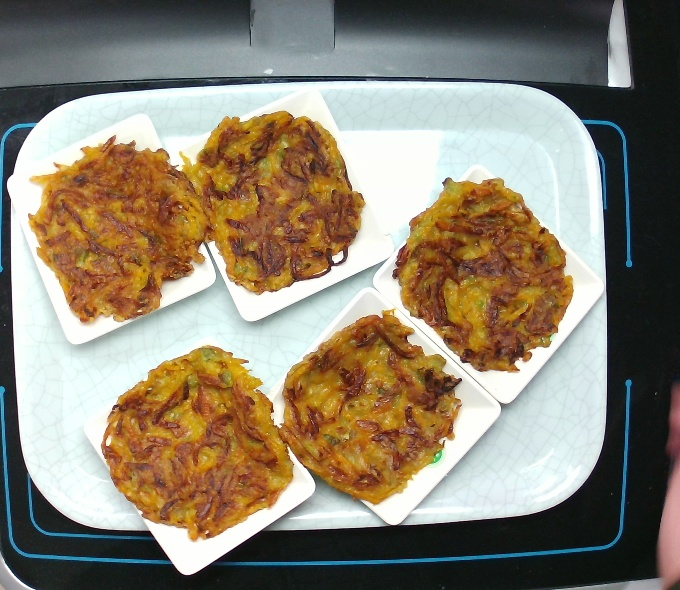wcq-NanGuaBing: (95, 342, 296, 539), (276, 315, 465, 499), (26, 141, 208, 327), (405, 170, 572, 372), (192, 112, 370, 300)
